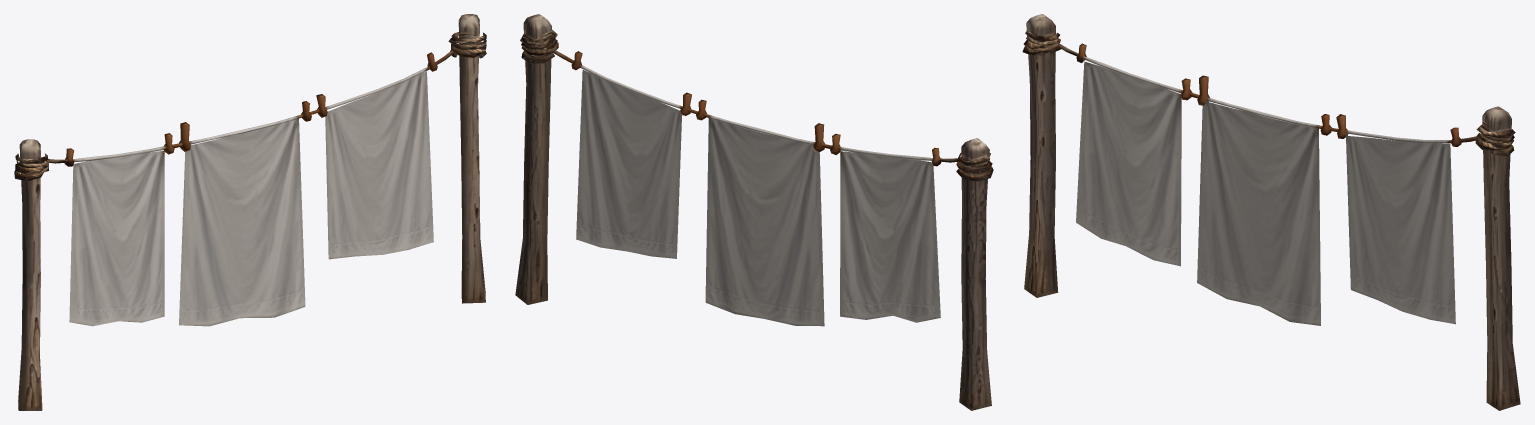
The model's file is act1_kit_v1_drying_line.glb.
3 renders of one model, left to right at view 1: azimuth 30°, elevation 25°; view 2: azimuth 150°, elevation 25°; view 3: azimuth 330°, elevation 25°, orthographic. The views are drawn at different scales.
Parts seen in each view (by area): view 1: act1_kit_v1_drying_line; view 2: act1_kit_v1_drying_line; view 3: act1_kit_v1_drying_line.
Part boxes in pixels (<box>): act1_kit_v1_drying_line: <box>14,14,486,410</box>; act1_kit_v1_drying_line: <box>515,14,993,410</box>; act1_kit_v1_drying_line: <box>1022,14,1520,410</box>.
Size of the model in its own units: 1 by 0.5746 by 0.0701.
Materials: 1 (1 with a texture image).
